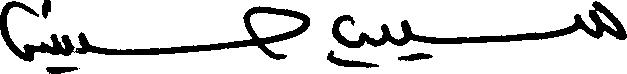X: (0, 0, 66, 73), (245, 1, 308, 64), (325, 10, 371, 72), (576, 0, 626, 44), (373, 19, 388, 71), (402, 15, 411, 65), (81, 27, 89, 58)
